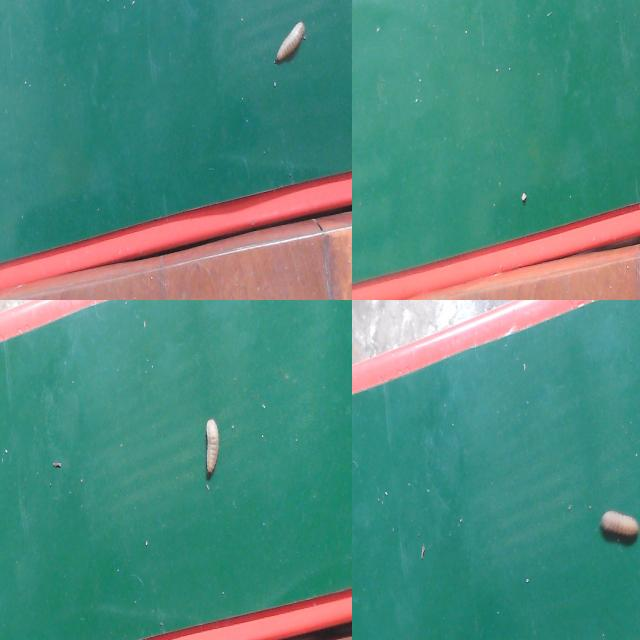Maggot: (594, 504, 640, 551), (275, 21, 308, 66), (204, 420, 223, 481)
